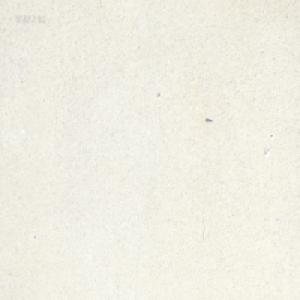Nail: (205, 117, 212, 122)
